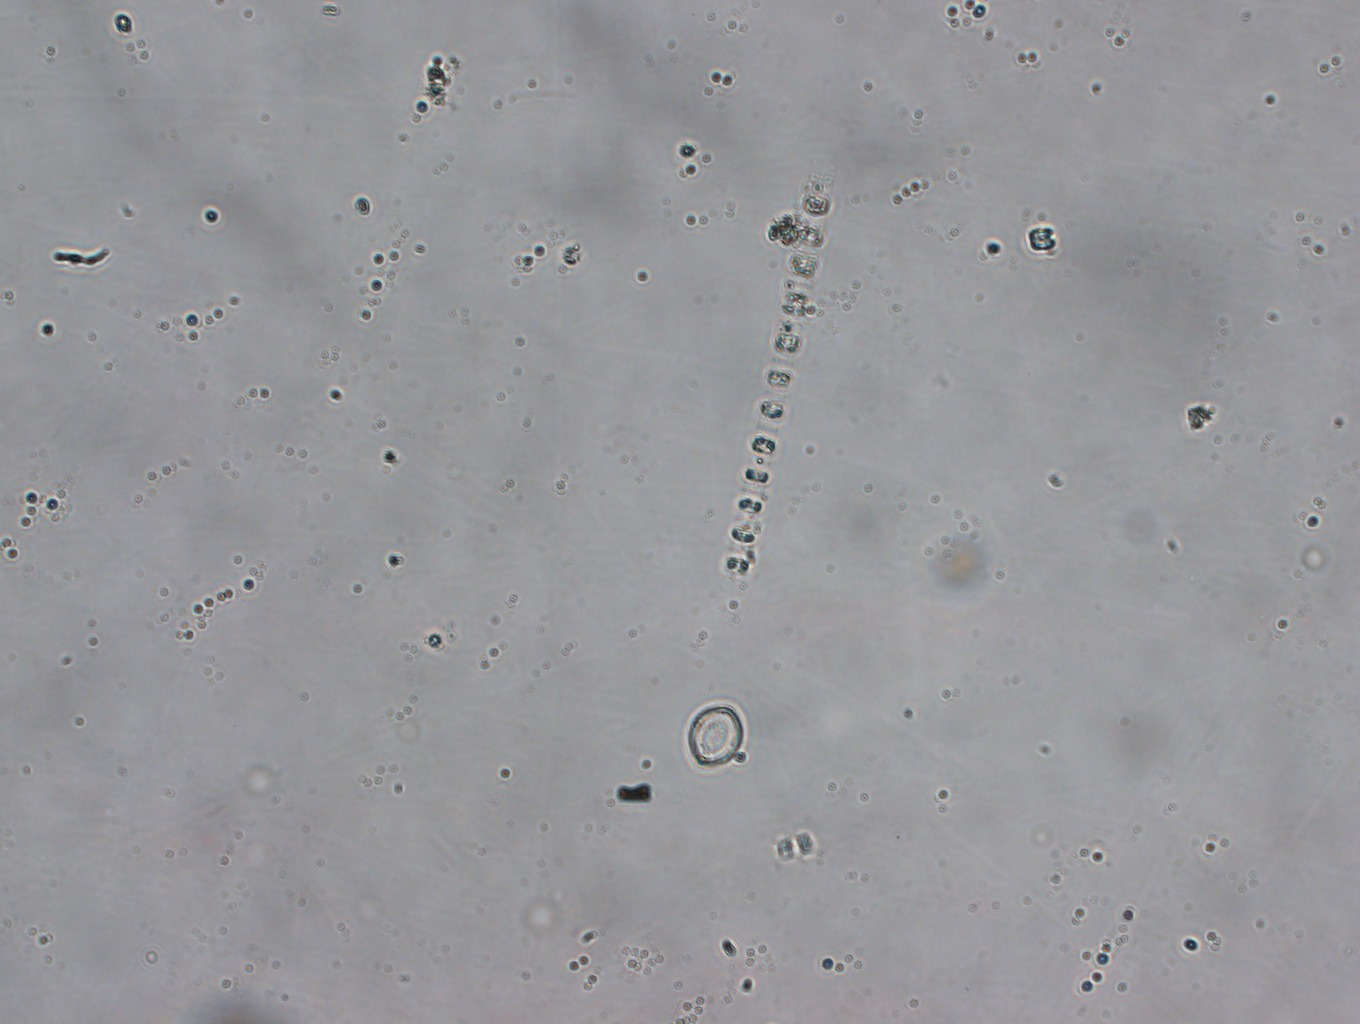skeletonema: (724, 189, 833, 578)
